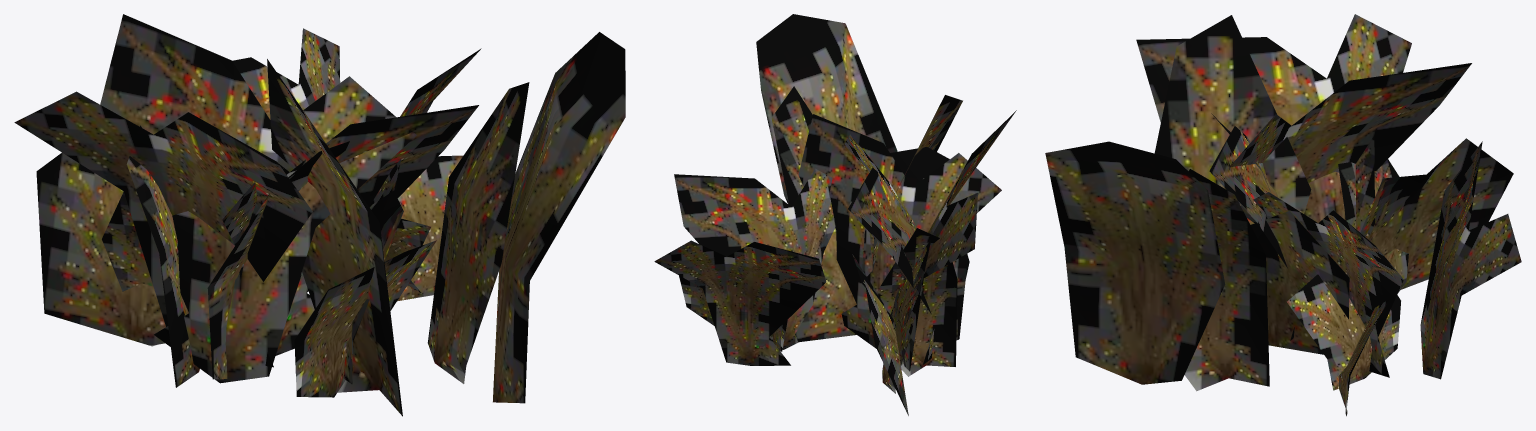
The picture shows the model from 3 angles, left to right: view 1: azimuth 30°, elevation 25°; view 2: azimuth 150°, elevation 25°; view 3: azimuth 270°, elevation 25°; orthographic projection. The views are drawn at different scales.
Visible parts, largest first — view 1: grasspatch2; view 2: grasspatch2; view 3: grasspatch2.
Part boxes in pixels (x1,y1,x2,y2): grasspatch2: (14, 14, 625, 416); grasspatch2: (654, 14, 1016, 415); grasspatch2: (1045, 14, 1521, 416).
Size of the model in its own units: 0.8029 by 0.6 by 0.8478.
1 material, 1 textured.
